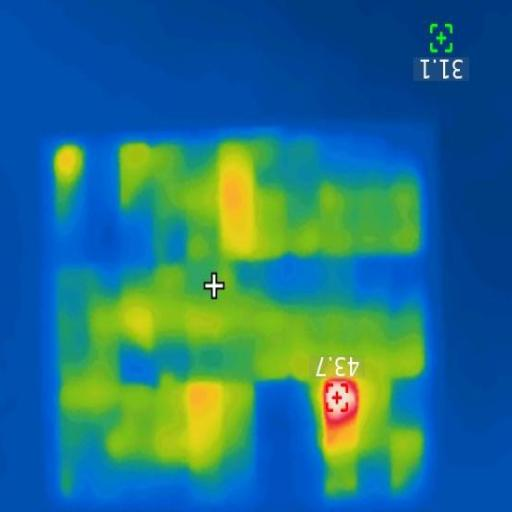hotspot: (319, 379, 361, 425)
